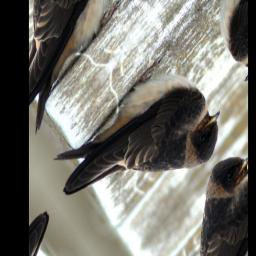Swallow: (45, 25, 235, 256)
